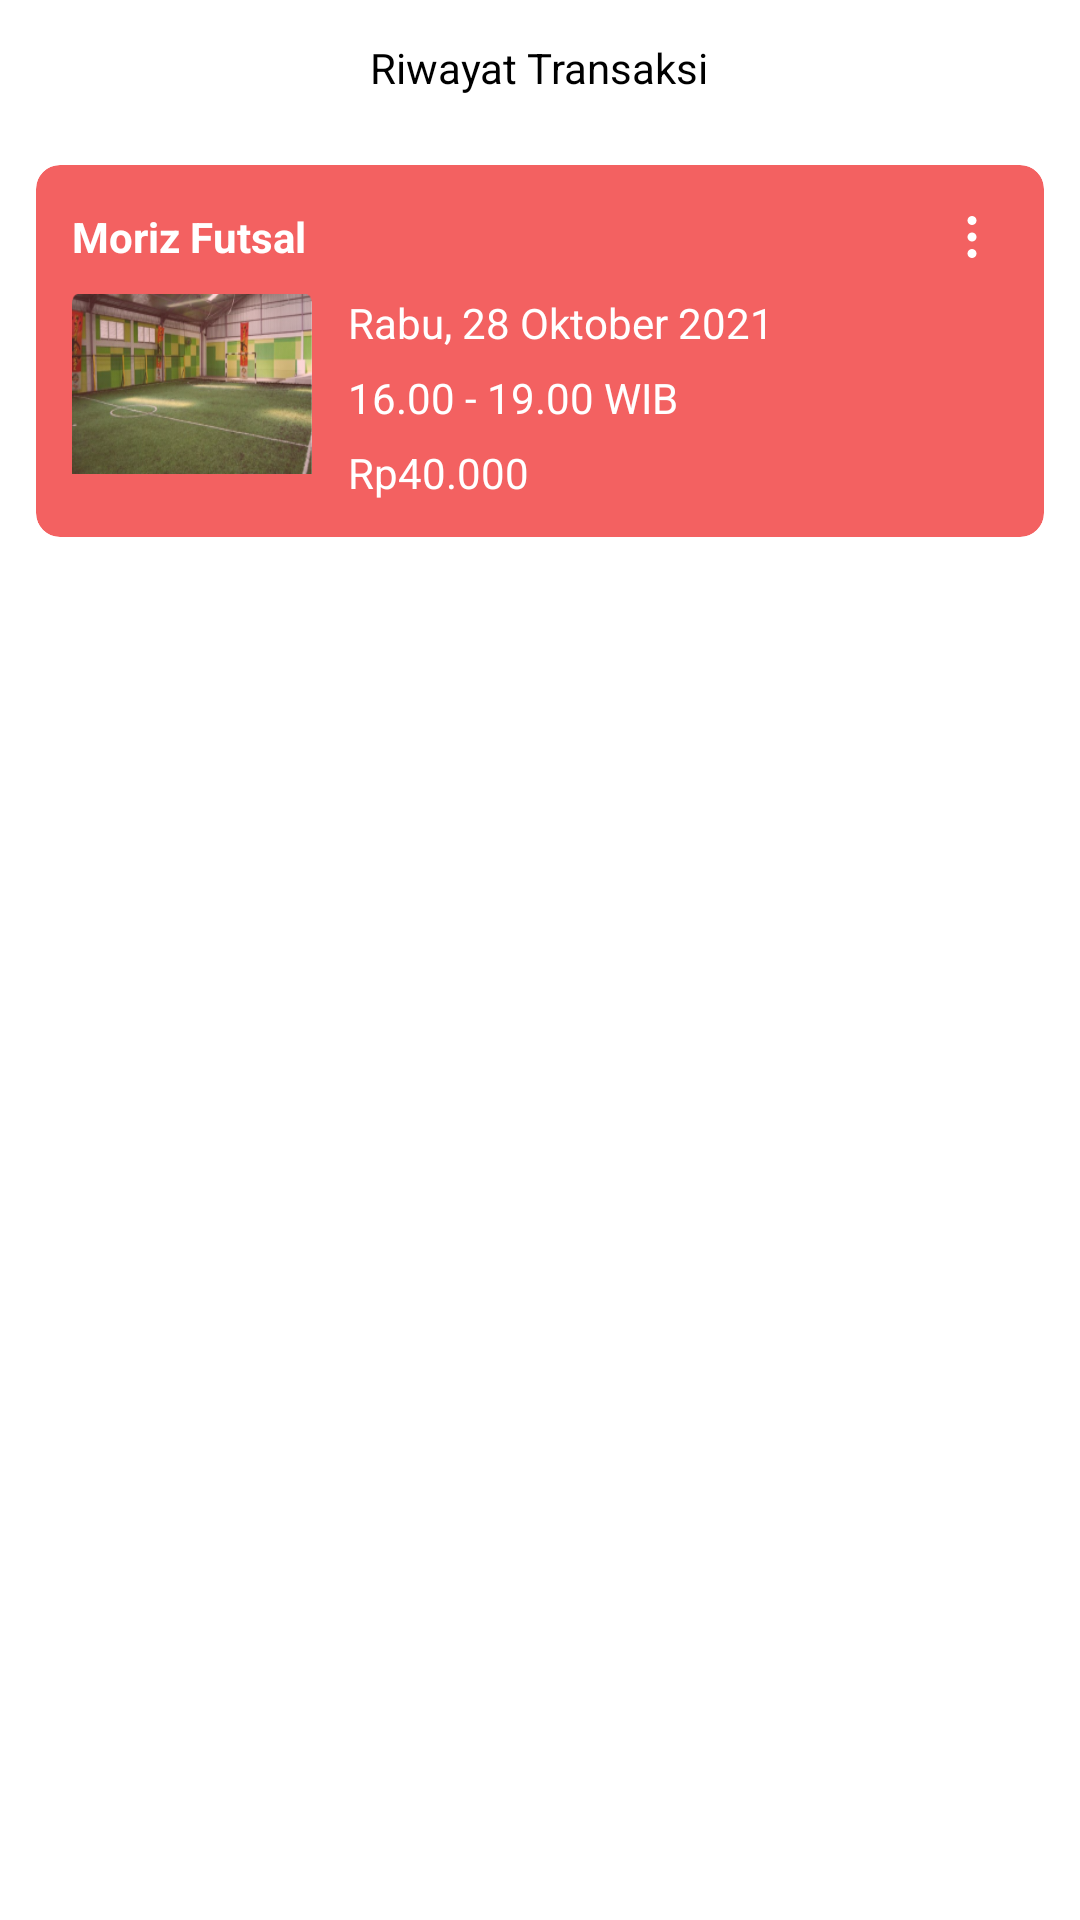

Icons on this 1080 x 1920 Android screen, each with its box as region(x1, y1, x2, y2):
ellipsis: region(967, 216, 977, 258)
